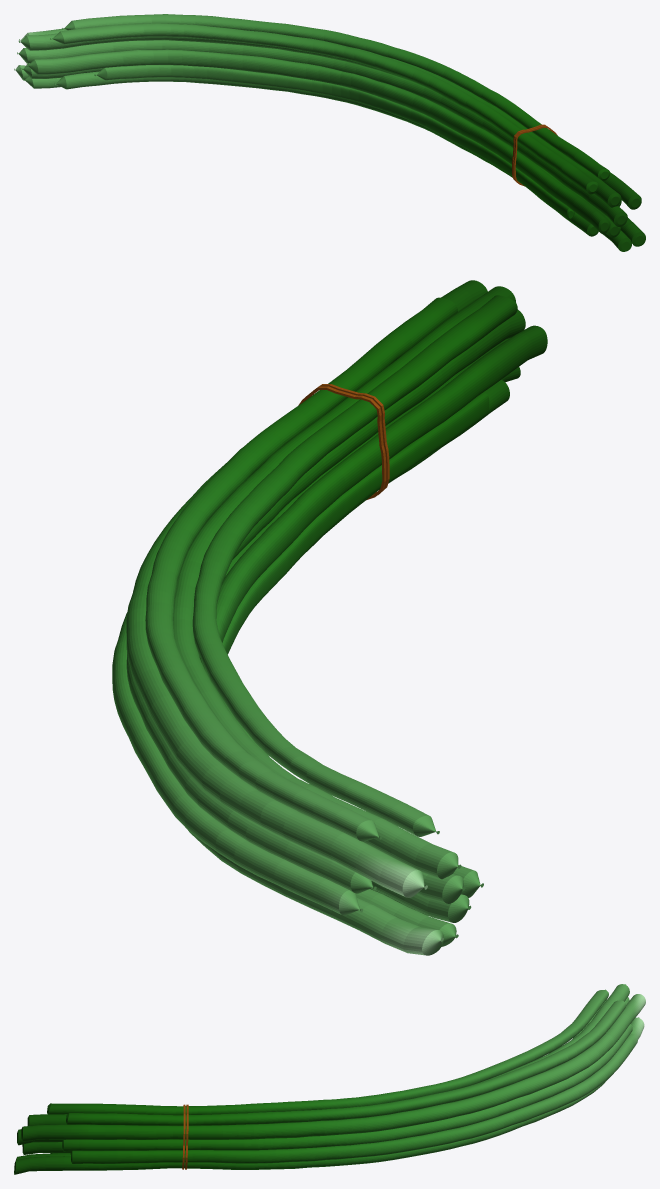
Rendered from kacangpanjang.glb.
3 renders of one model, top to bottom at view 1: azimuth 30°, elevation 25°; view 2: azimuth 150°, elevation 25°; view 3: azimuth 270°, elevation 25°, orthographic. The views are drawn at different scales.
Visible parts, largest first — view 1: beanhelper; view 2: beanhelper; view 3: beanhelper.
Boxes of the visible parts, x1=… form: beanhelper: x1=14, y1=14, x2=645, y2=251; beanhelper: x1=112, y1=280, x2=547, y2=955; beanhelper: x1=14, y1=984, x2=645, y2=1174.
Bounding box in the file's own units: 4.46 × 0.8084 × 7.94.
Materials: 4 (1 with a texture image).
